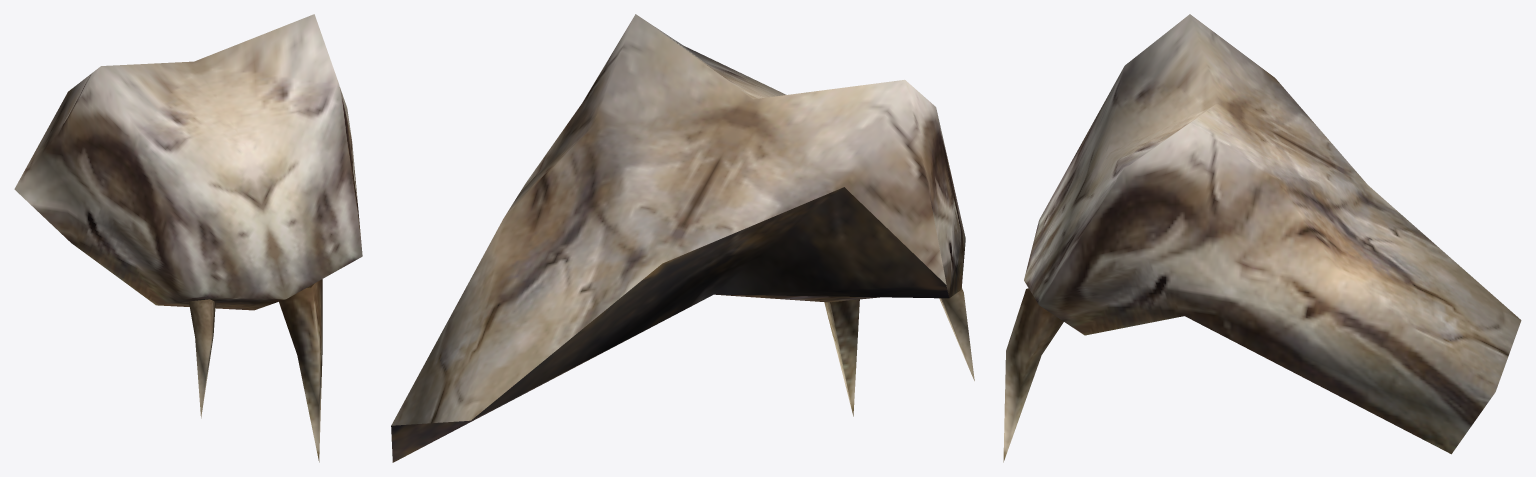
The model's file is D_baigu004.fbx.
3 views of the same model, side by side, from view 1: azimuth 30°, elevation 25°; view 2: azimuth 150°, elevation 25°; view 3: azimuth 270°, elevation 25° (orthographic). The views are drawn at different scales.
Visible parts, largest first — view 1: D_baigu004; view 2: D_baigu004; view 3: D_baigu004.
Part boxes in pixels (left/top/right/bottom): D_baigu004: left=14, top=14, right=362, bottom=462; D_baigu004: left=391, top=14, right=974, bottom=462; D_baigu004: left=1003, top=14, right=1521, bottom=462.
Bounding box in the file's own units: 137 × 139 × 171.
